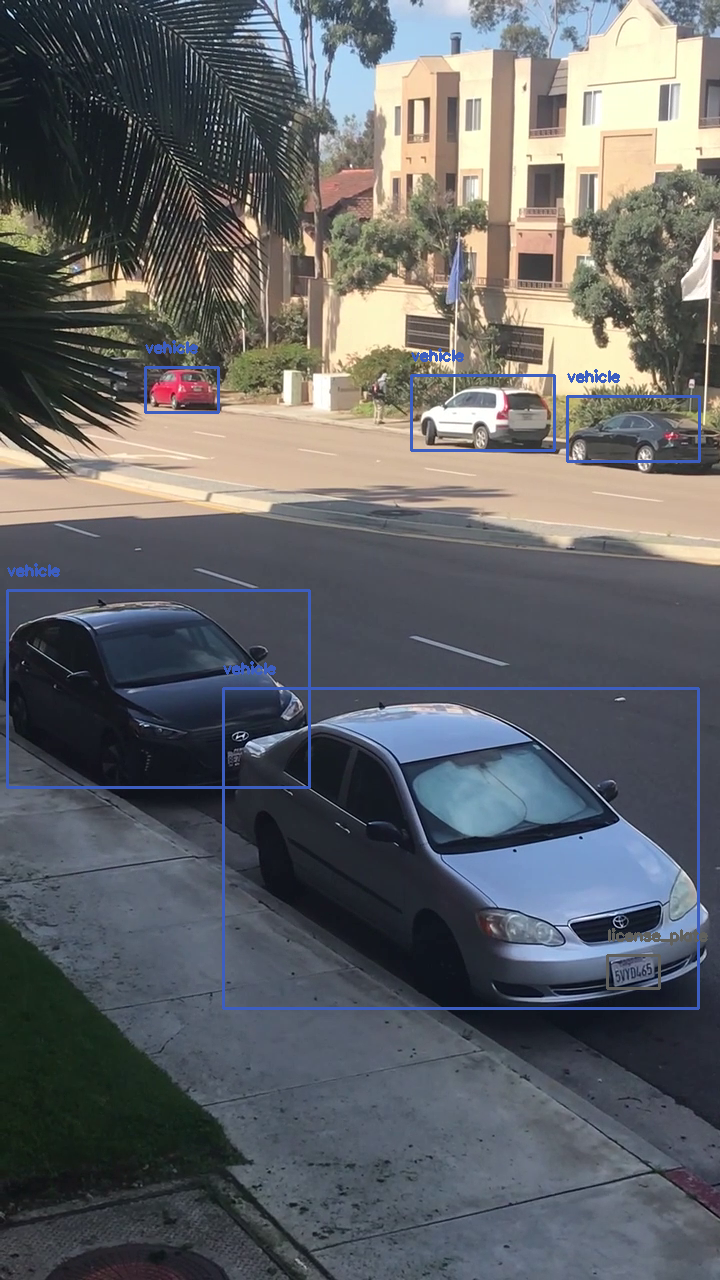license_plate: (607, 955, 659, 988)
vehicle: (223, 688, 698, 1008), (7, 590, 309, 787), (411, 375, 554, 450), (567, 396, 699, 461), (145, 367, 218, 412)
